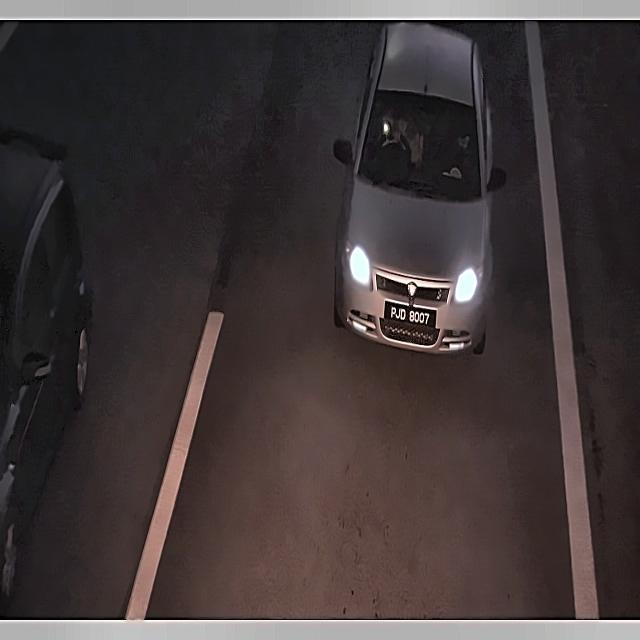car: (380, 292, 440, 335)
